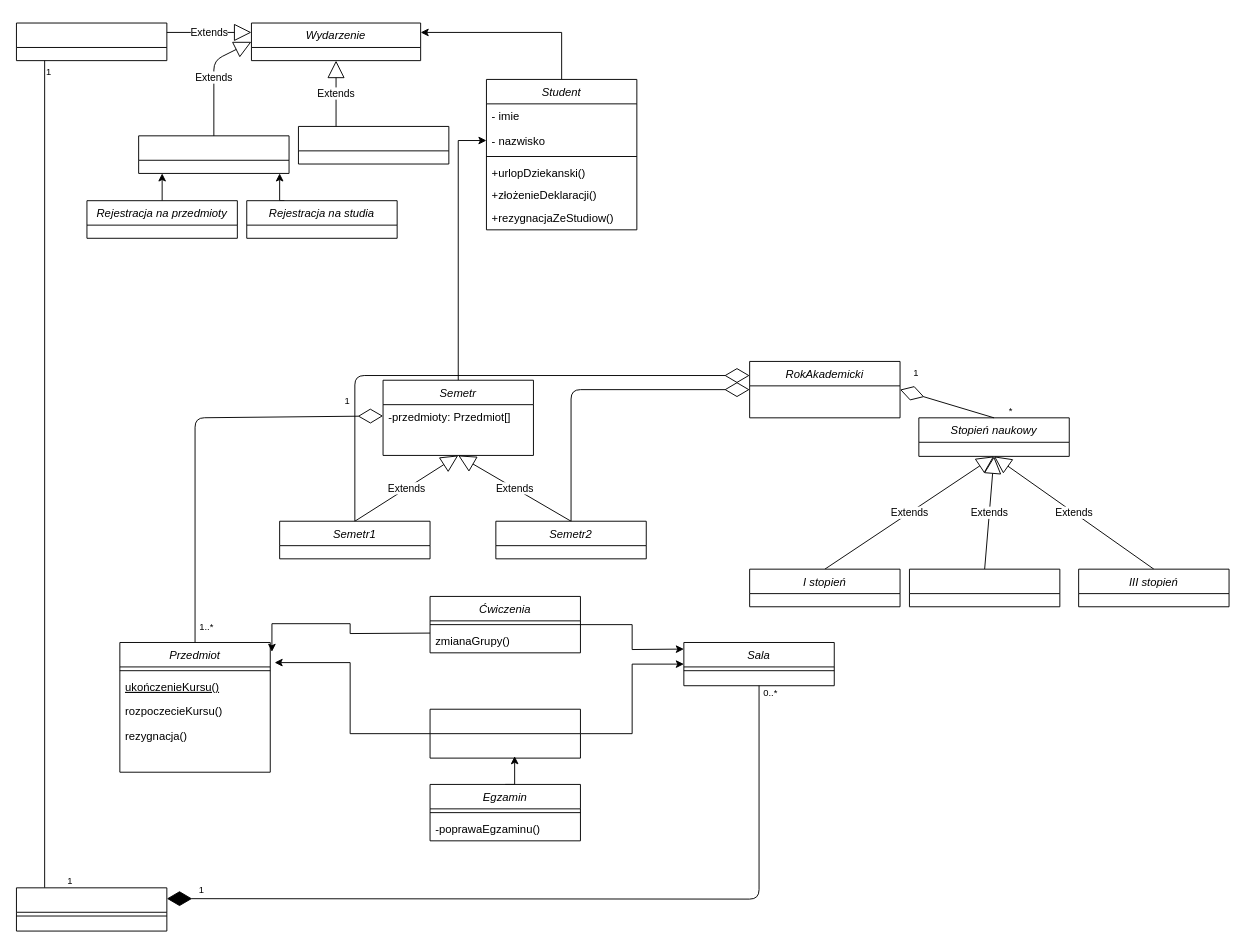
Some shapes in this 1246 by 948 pixel diagram are drawn without their labels. The shapes that lost their labels are listed below. From the top down, each one's centre as x and y in pixels, then its label:
At (91,41): "Dzień wydziału".
At (213,154): "Rejestracja".
At (373,144): "Dni otwarte".
At (984,587): "II stopień".
At (504,733): "Wykład".
At (91,909): "Wydział".
